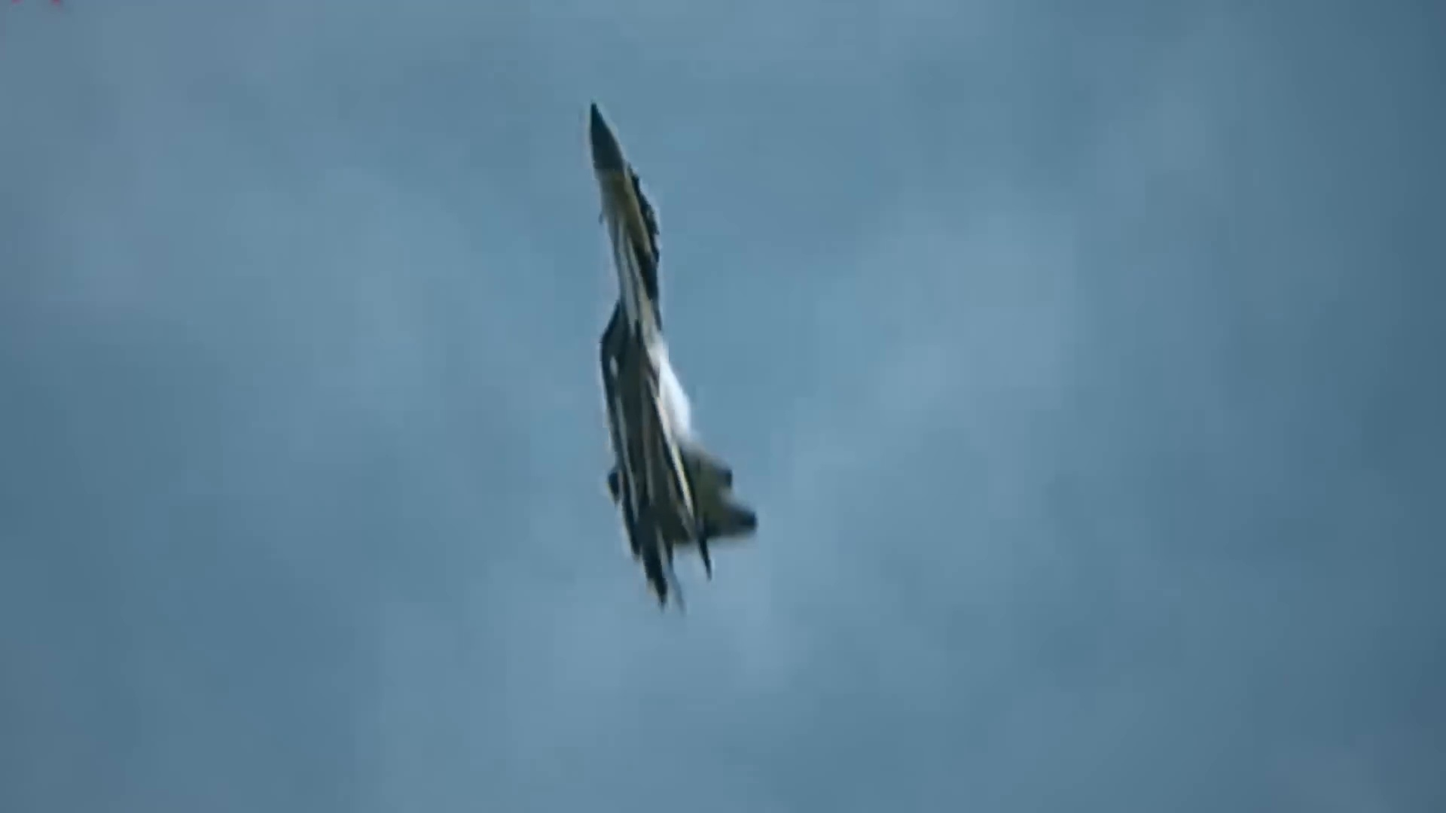Su35: (580, 95, 765, 628)
